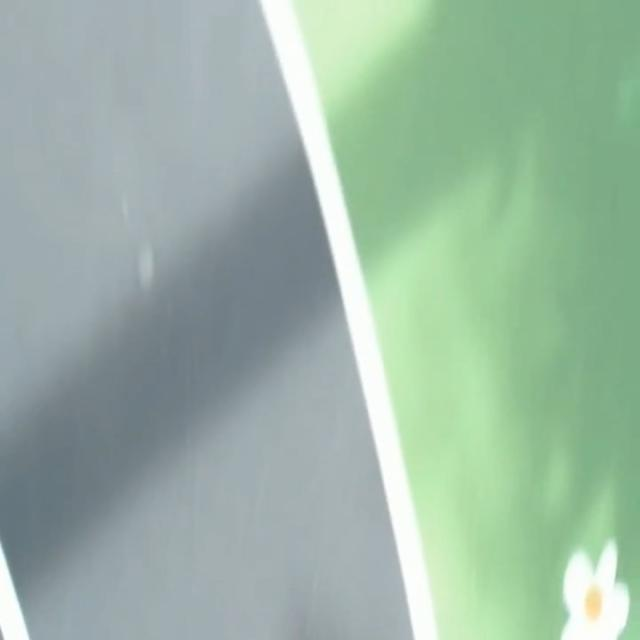right: (259, 0, 436, 639)
